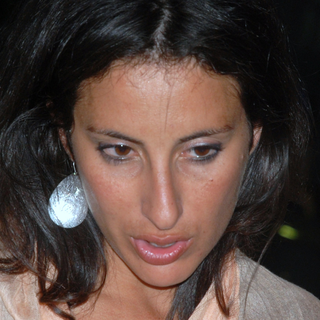eye: (94, 139, 141, 164), (179, 140, 225, 165)
